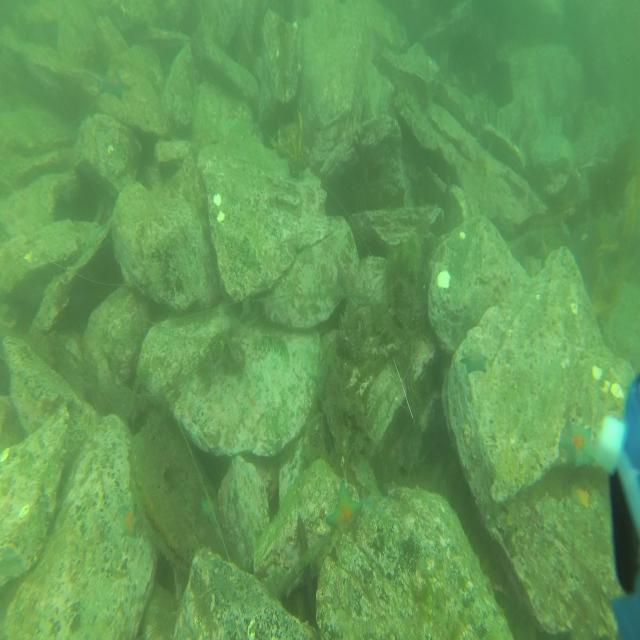holothurian: (252, 333, 290, 363)
starfish: (324, 481, 365, 538), (558, 414, 598, 469), (98, 65, 131, 102), (460, 345, 490, 375), (117, 505, 142, 540), (199, 494, 219, 528)
